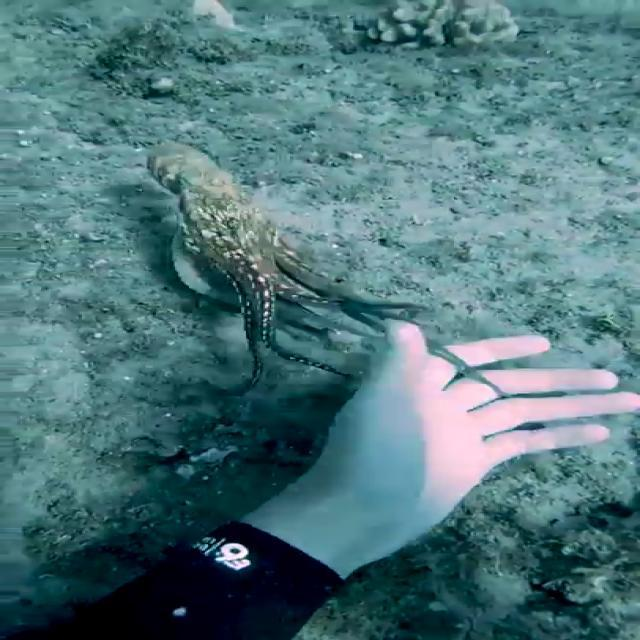octopus: (139, 142, 531, 412)
